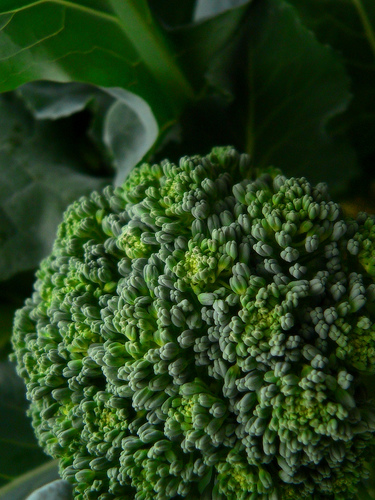broccoli: (8, 145, 373, 498)
